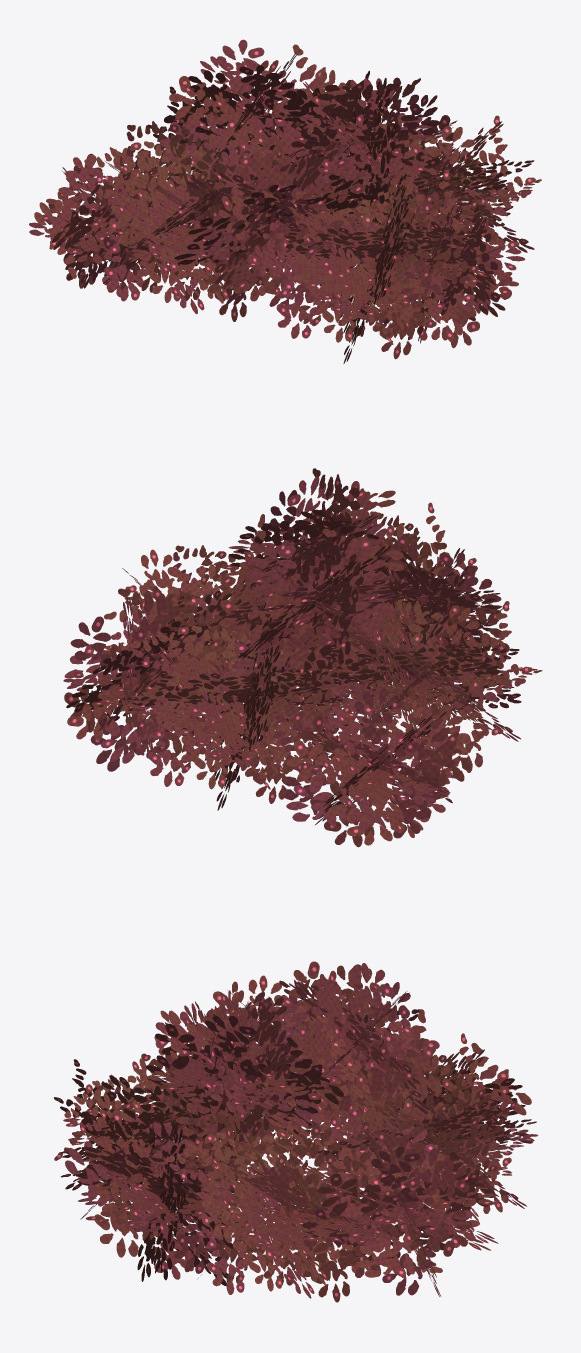
File: FSCMangroveCanopy.fbx
3 views of the same model, one above another, from view 1: azimuth 30°, elevation 25°; view 2: azimuth 150°, elevation 25°; view 3: azimuth 270°, elevation 25° (orthographic).
Visible parts, largest first — view 1: Canopy; view 2: Canopy; view 3: Canopy.
Part boxes in pixels (x1=…): Canopy: x1=29, y1=39, x2=541, y2=363; Canopy: x1=63, y1=468, x2=542, y2=847; Canopy: x1=54, y1=961, x2=538, y2=1302.
Size of the model in its own units: 6550 by 4640 by 6653.
